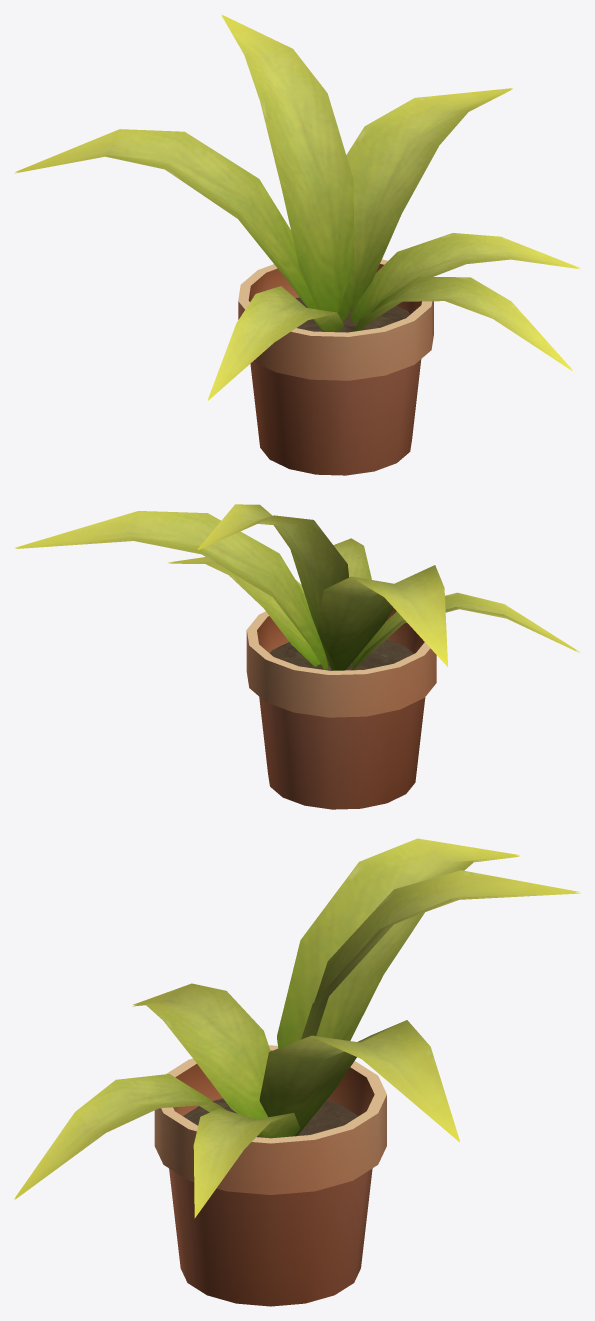
The model's file is Doll_OB_Pot_001.FBX.
The picture shows the model from 3 angles, top to bottom: view 1: azimuth 30°, elevation 25°; view 2: azimuth 150°, elevation 25°; view 3: azimuth 270°, elevation 25°; orthographic projection. The views are drawn at different scales.
Visible parts, largest first — view 1: Doll_OB_Pot_001; view 2: Doll_OB_Pot_001; view 3: Doll_OB_Pot_001.
Boxes of the visible parts, x1,y1,x2,y2 form: Doll_OB_Pot_001: (15,15,579,475); Doll_OB_Pot_001: (15,504,579,809); Doll_OB_Pot_001: (14,838,580,1306).
Size of the model in its own units: 55.23 by 37.14 by 48.7.
